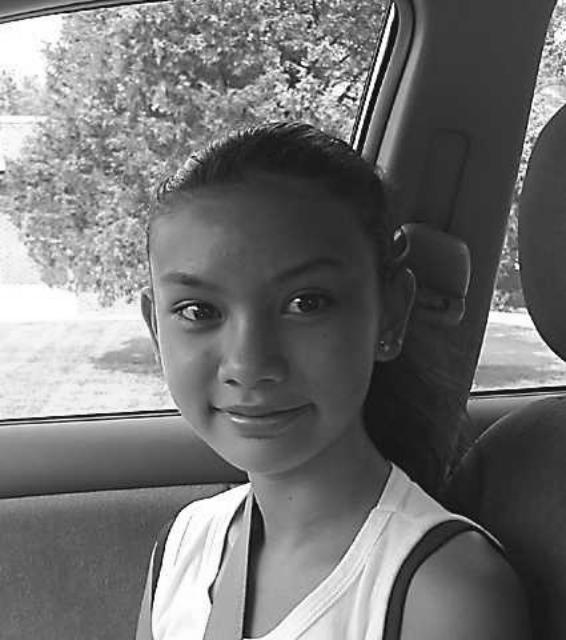SafeDriving: (156, 281, 234, 335), (268, 274, 346, 328)
Seatbelt: (196, 479, 264, 639)
